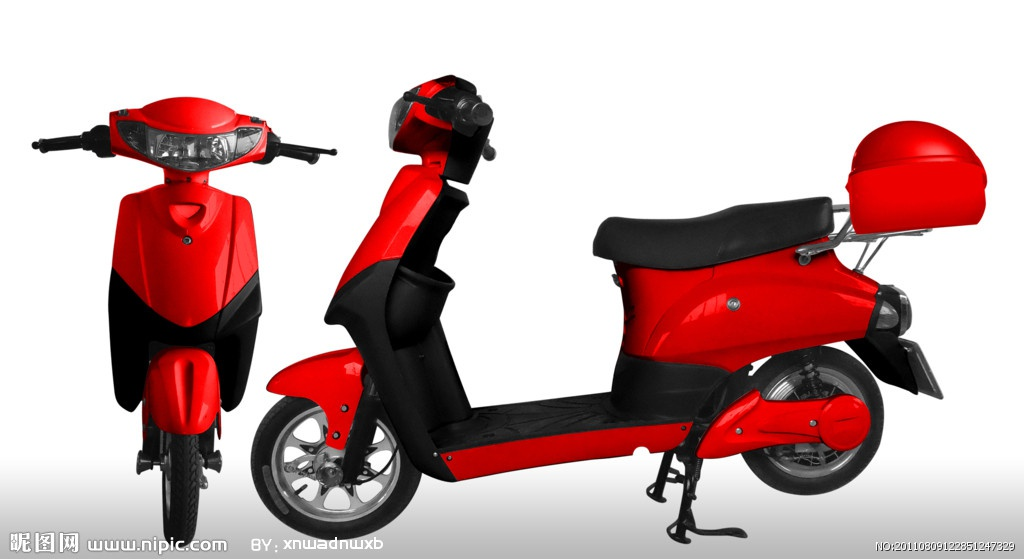non-vehicle: (260, 71, 987, 553), (41, 95, 282, 549)
